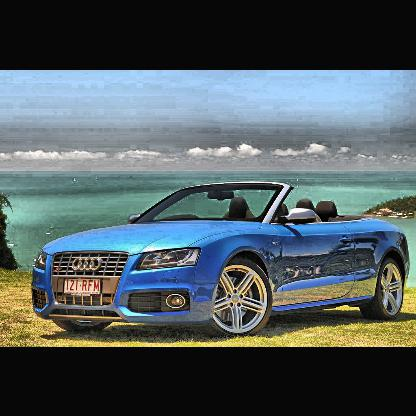Audi S5 Convertible 2012: (30, 183, 410, 337)
